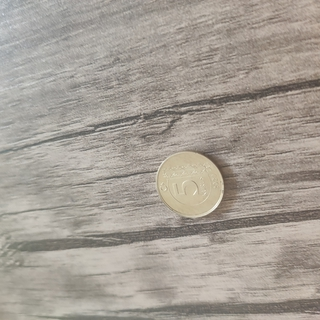5KURUS: (154, 149, 226, 219)
